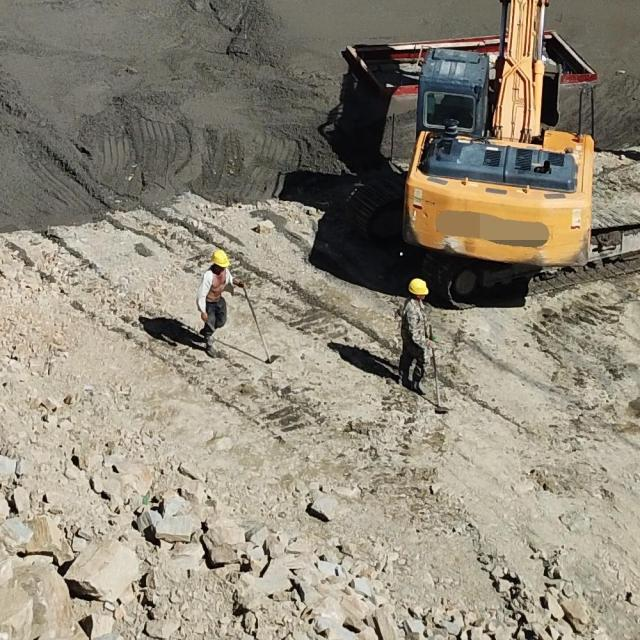crane: (390, 0, 609, 316)
